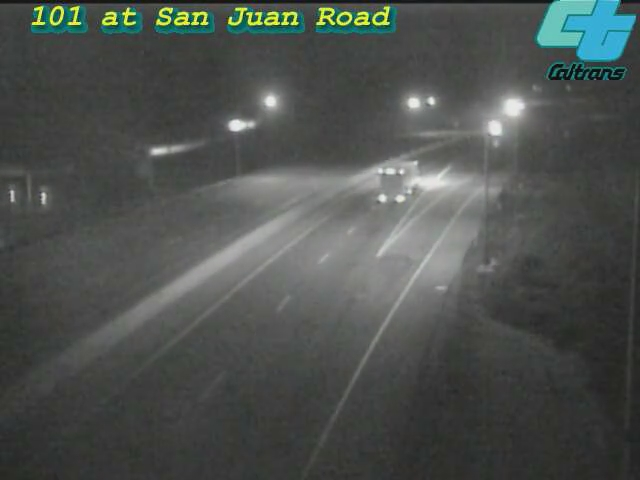vehicle: (365, 135, 445, 215), (470, 103, 520, 153), (487, 83, 537, 133)
